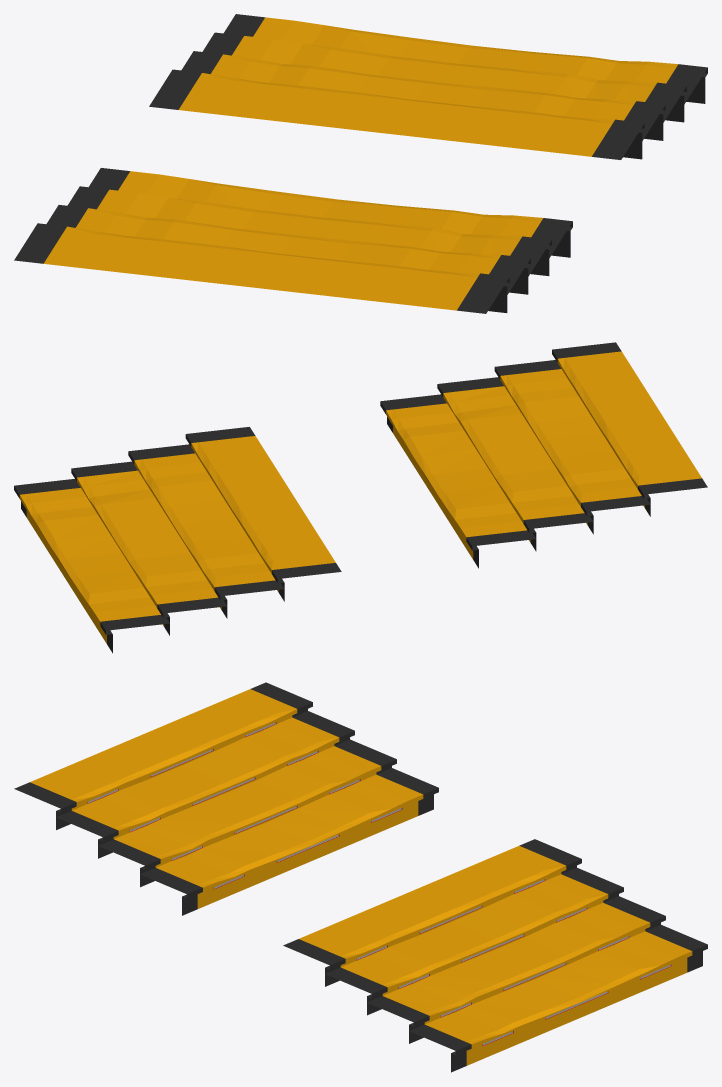
Rendered from StairsCorridor_Stairs.fbx.
3 views of the same model, one above another, from view 1: azimuth 30°, elevation 25°; view 2: azimuth 150°, elevation 25°; view 3: azimuth 270°, elevation 25° (orthographic). The views are drawn at different scales.
Visible parts, largest first — view 1: pCube29, pCube30; view 2: pCube30, pCube29; view 3: pCube30, pCube29.
Part boxes in pixels (bbox=[...]): pCube29: bbox=[149, 14, 707, 159]; pCube30: bbox=[14, 168, 572, 313]; pCube30: bbox=[380, 342, 707, 568]; pCube29: bbox=[14, 427, 341, 653]; pCube30: bbox=[14, 682, 438, 915]; pCube29: bbox=[283, 839, 707, 1072].
Bounding box in the file's own units: 14.6 × 2.3 × 14.6.
